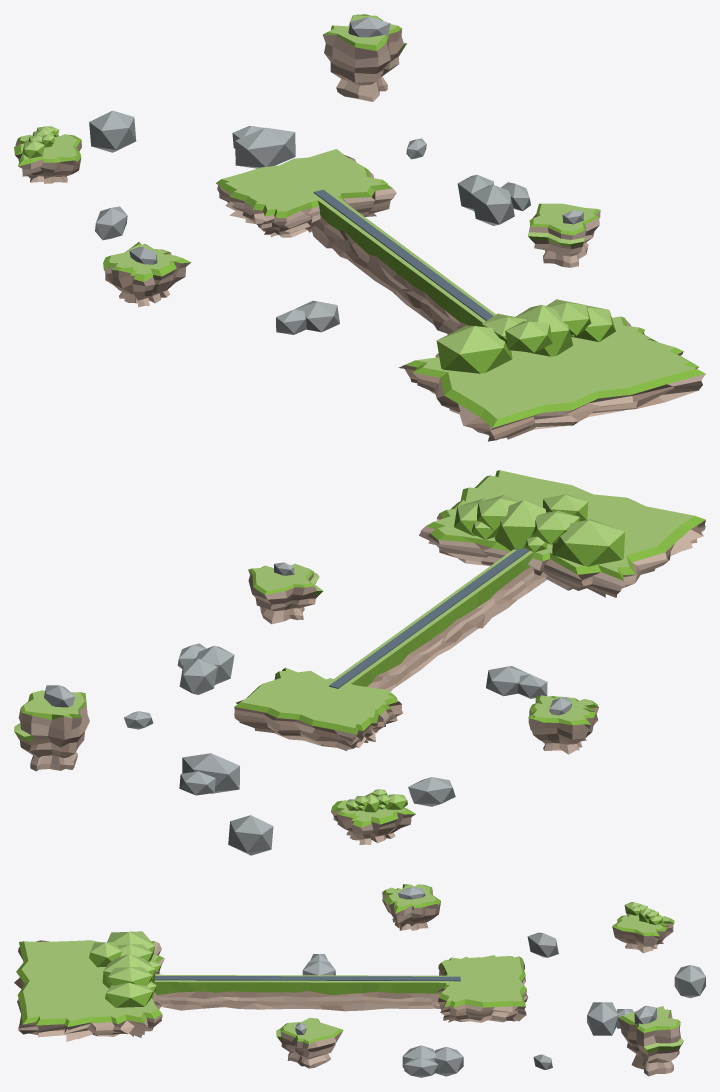
The model's file is terrain2.glb.
3 views of the same model, one above another, from view 1: azimuth 30°, elevation 25°; view 2: azimuth 150°, elevation 25°; view 3: azimuth 270°, elevation 25° (orthographic). The views are drawn at different scales.
Visible parts, largest first — view 1: Plane.006, Plane, Icosphere.007, Plane.001, Plane.004, Plane.002, Plane.003, Icosphere.003, Plane.005, Icosphere.004, Cube, Icosphere.001 (+4 smaller); view 2: Plane.006, Plane, Icosphere.007, Plane.001, Plane.004, Plane.003, Plane.002, Plane.005, Icosphere.003, Icosphere.004, Cube, Icosphere.001 (+3 smaller); view 3: Plane.006, Plane.001, Plane, Icosphere.007, Plane.004, Plane.003, Plane.002, Icosphere.003, Plane.005, Cube, Icosphere.004, Icosphere.005 (+4 smaller).
Part boxes in pixels (x1=…): Plane.006: x1=398, y1=316, x2=705, y2=441; Plane: x1=216, y1=149, x2=396, y2=237; Icosphere.007: x1=436, y1=299, x2=615, y2=373; Plane.001: x1=311, y1=195, x2=495, y2=334; Plane.004: x1=323, y1=14, x2=406, y2=101; Plane.002: x1=103, y1=242, x2=190, y2=307; Plane.003: x1=528, y1=203, x2=600, y2=267; Icosphere.003: x1=457, y1=174, x2=530, y2=225; Plane.005: x1=14, y1=134, x2=81, y2=183; Icosphere.004: x1=232, y1=126, x2=295, y2=168; Cube: x1=313, y1=189, x2=493, y2=320; Icosphere.001: x1=276, y1=300, x2=339, y2=334; Plane.006: x1=419, y1=470, x2=705, y2=597; Plane: x1=234, y1=667, x2=402, y2=750; Icosphere.007: x1=454, y1=494, x2=624, y2=566; Plane.001: x1=332, y1=549, x2=546, y2=691; Plane.004: x1=14, y1=690, x2=89, y2=771; Plane.003: x1=248, y1=563, x2=322, y2=624; Plane.002: x1=528, y1=695, x2=598, y2=754; Plane.005: x1=331, y1=792, x2=415, y2=844; Icosphere.003: x1=177, y1=643, x2=234, y2=694; Icosphere.004: x1=179, y1=753, x2=239, y2=795; Cube: x1=329, y1=548, x2=529, y2=688; Icosphere.001: x1=486, y1=666, x2=547, y2=698; Plane.006: x1=14, y1=940, x2=164, y2=1041; Plane.001: x1=154, y1=975, x2=448, y2=1011; Plane: x1=437, y1=955, x2=528, y2=1022; Icosphere.007: x1=89, y1=931, x2=160, y2=1007; Plane.004: x1=617, y1=1006, x2=683, y2=1076; Plane.003: x1=276, y1=1018, x2=343, y2=1068; Plane.002: x1=382, y1=884, x2=440, y2=930; Icosphere.003: x1=402, y1=1045, x2=463, y2=1077; Plane.005: x1=612, y1=913, x2=674, y2=953; Cube: x1=155, y1=976, x2=460, y2=981; Icosphere.004: x1=587, y1=1002, x2=633, y2=1035; Icosphere.005: x1=674, y1=965, x2=705, y2=998.
Bounding box in the file's own units: 744 × 160 × 1263.
